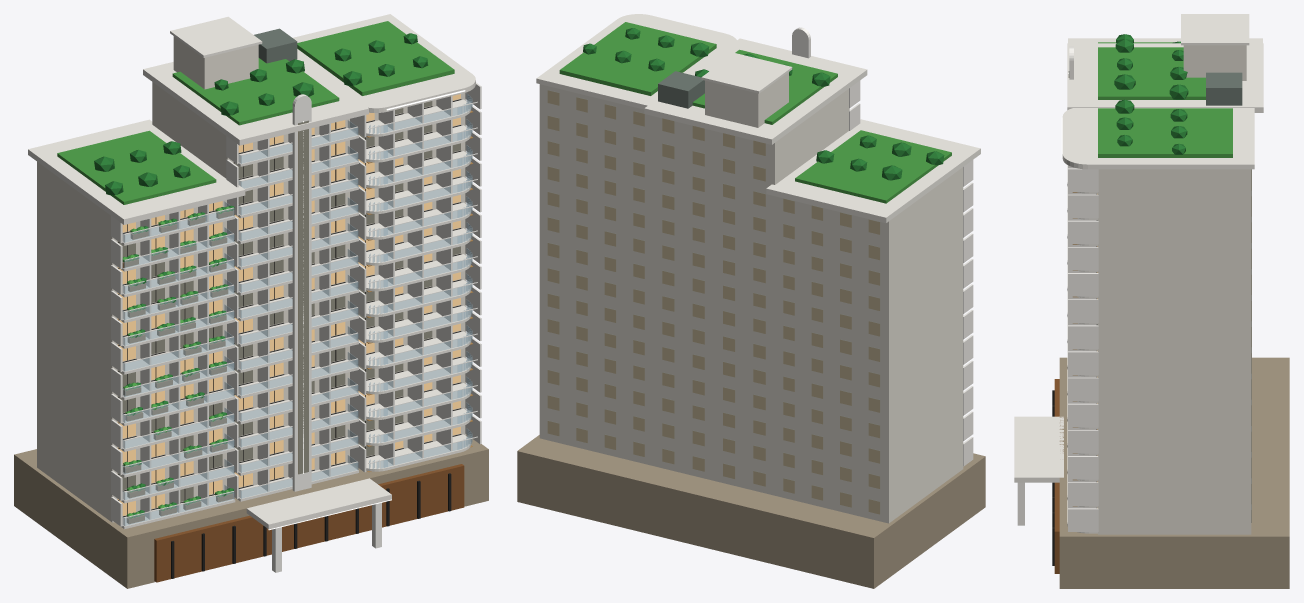
Rendered from tower.glb.
The picture shows the model from 3 angles, left to right: view 1: azimuth 30°, elevation 25°; view 2: azimuth 150°, elevation 25°; view 3: azimuth 270°, elevation 25°; orthographic projection. The views are drawn at different scales.
Parts seen in each view (by area): view 1: tower; view 2: tower; view 3: tower.
Part boxes in pixels (x1=…): tower: x1=14, y1=14, x2=488, y2=588; tower: x1=517, y1=14, x2=985, y2=588; tower: x1=1014, y1=14, x2=1289, y2=588.
Bounding box in the file's own units: 47 × 56.7 × 30.5.
